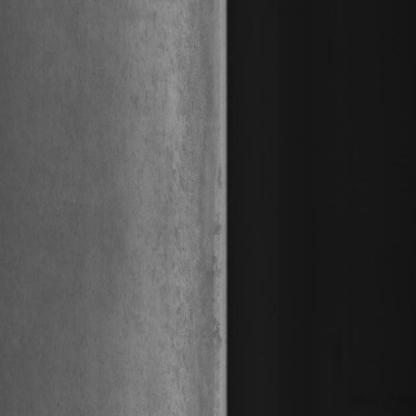silk_spot: (144, 41, 202, 376)
